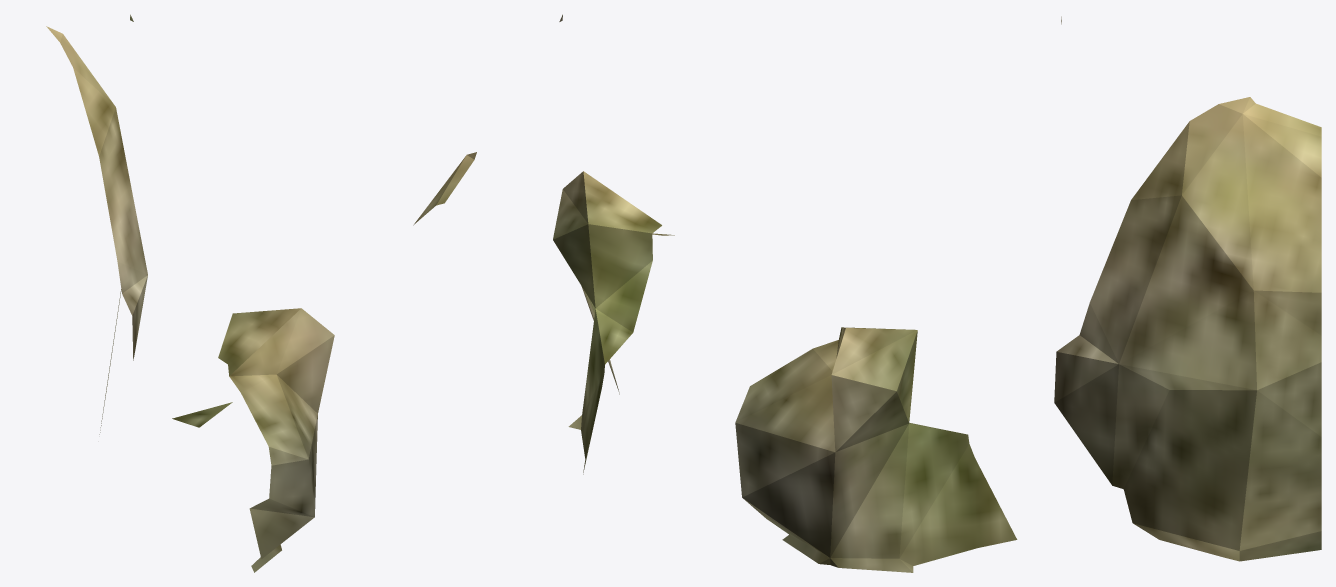
3 renders of one model, left to right at view 1: azimuth 30°, elevation 25°; view 2: azimuth 150°, elevation 25°; view 3: azimuth 270°, elevation 25°, orthographic. The views are drawn at different scales.
Bounding box in the file's own units: 0.2905 × 1.27 × 1.28.
1 material, 1 textured.
